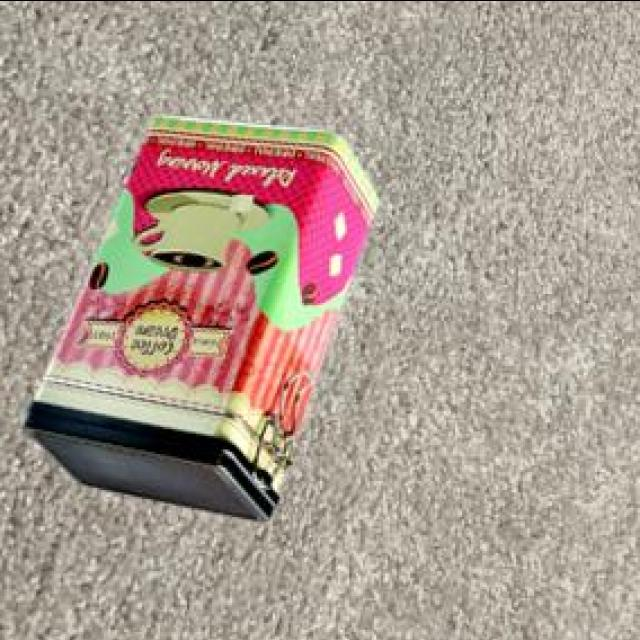logam: (26, 112, 382, 517)
